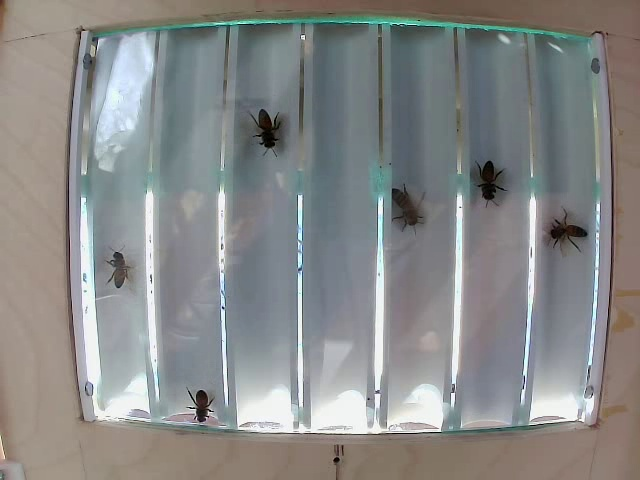bee: (247, 98, 291, 146), (181, 376, 223, 421), (98, 252, 139, 294), (394, 189, 427, 234), (480, 157, 509, 200), (550, 211, 573, 248)
